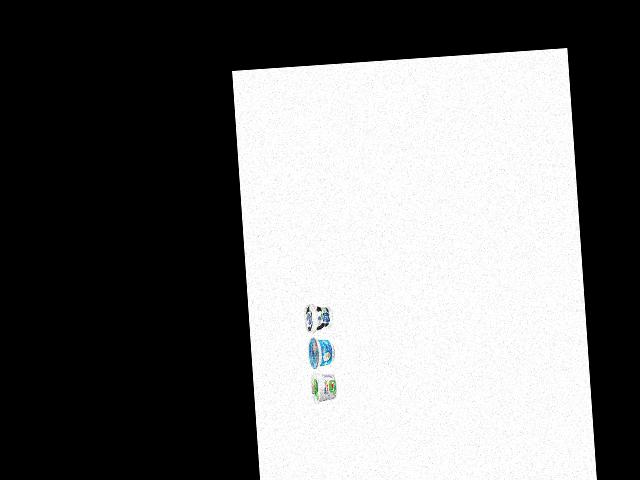cotage: (307, 369, 340, 406)
